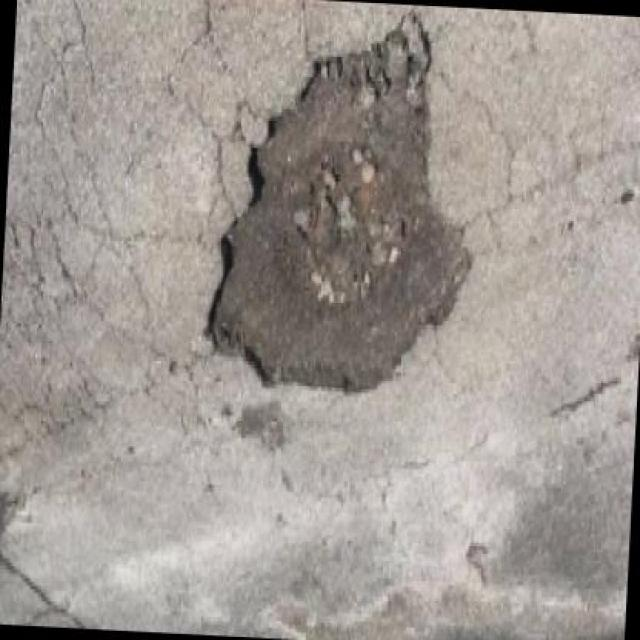pothole1: (195, 6, 488, 417)
